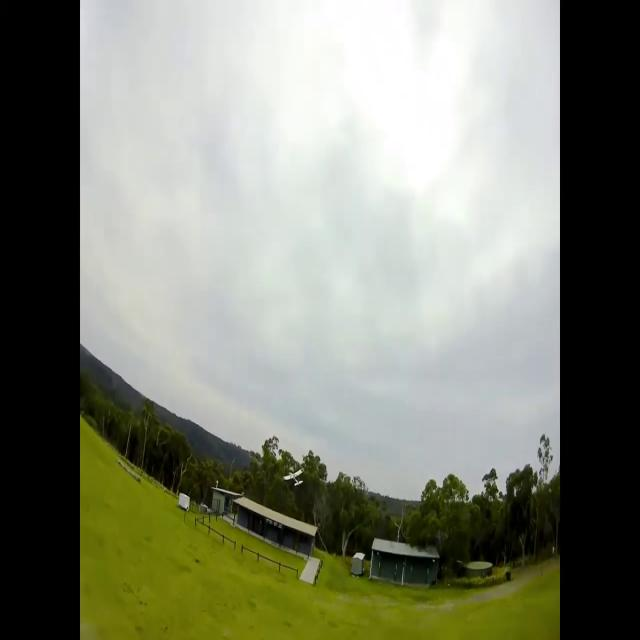iha: (285, 468, 305, 485)
